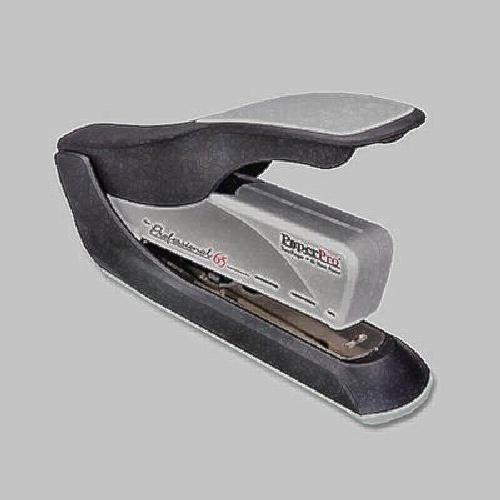stapler: (47, 83, 470, 417)
